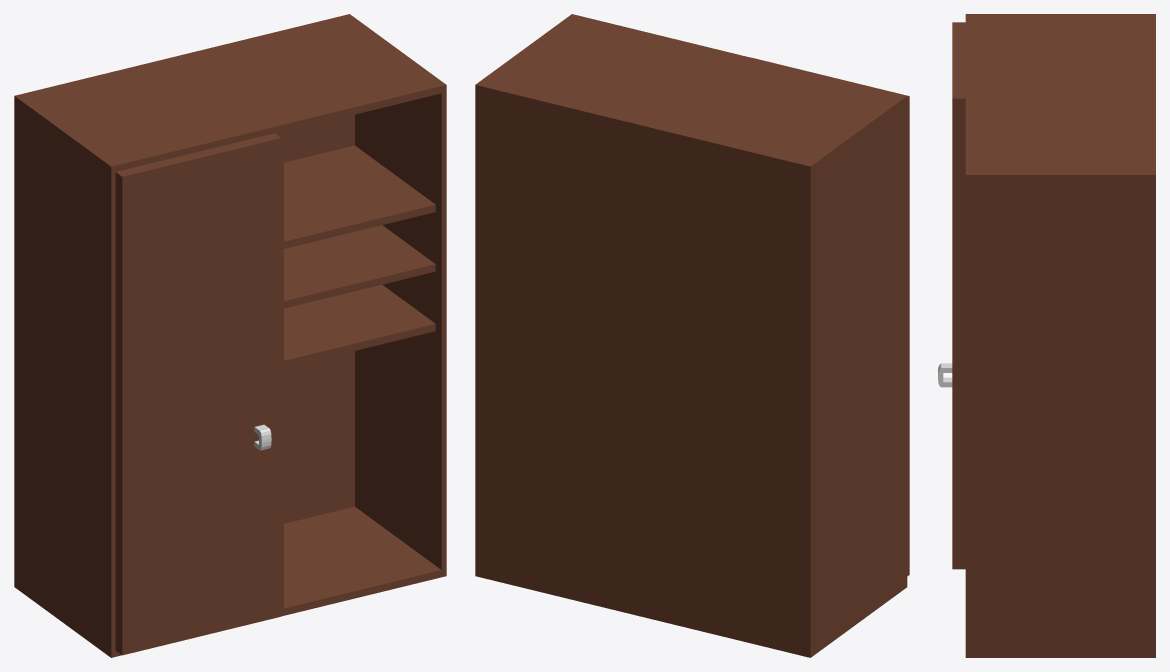
Rendered from garageclosetbig.fbx.
3 views of the same model, side by side, from view 1: azimuth 30°, elevation 25°; view 2: azimuth 150°, elevation 25°; view 3: azimuth 270°, elevation 25° (orthographic).
Parts seen in each view (by area): view 1: Garage Closet Bigger; view 2: Garage Closet Bigger; view 3: Garage Closet Bigger.
Boxes of the visible parts, x1,y1,x2,y2 form: Garage Closet Bigger: [14, 14, 446, 657]; Garage Closet Bigger: [475, 14, 909, 657]; Garage Closet Bigger: [938, 14, 1155, 657].
Size of the model in its own units: 1000 by 1400 by 572.
